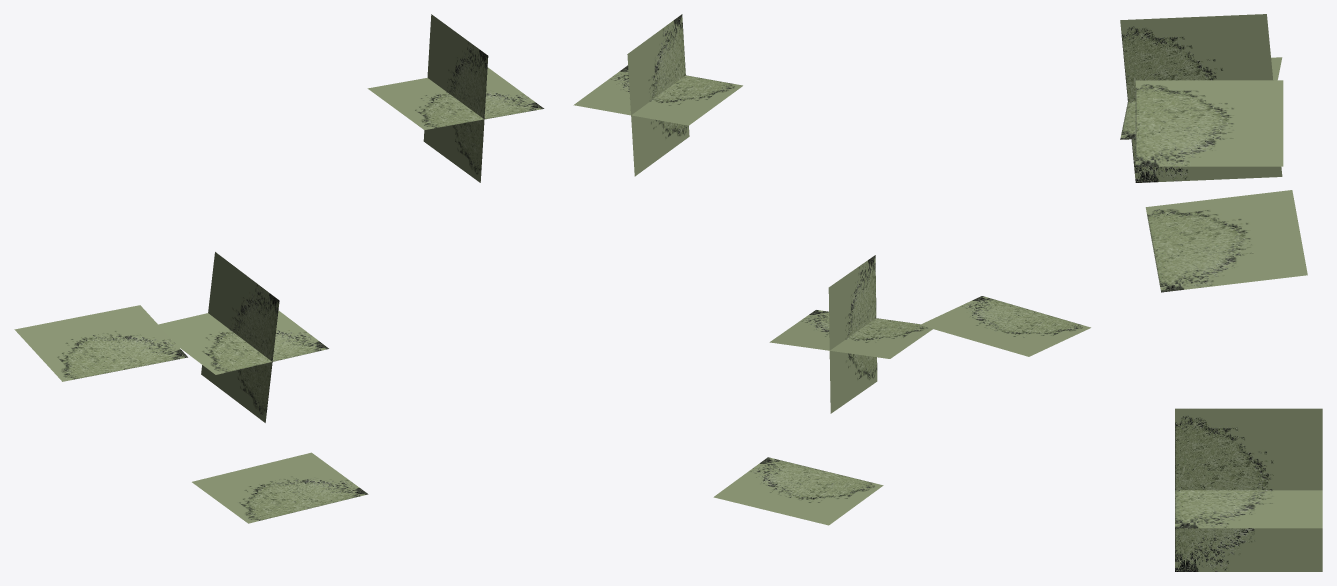
3 renders of one model, left to right at view 1: azimuth 30°, elevation 25°; view 2: azimuth 150°, elevation 25°; view 3: azimuth 270°, elevation 25°, orthographic. The views are drawn at different scales.
Visible parts, largest first — view 1: sageBrush.jpg__; view 2: sageBrush.jpg__; view 3: sageBrush.jpg__.
Boxes of the visible parts, box(x1,y1,x2,y2) form: sageBrush.jpg__: box(14, 14, 544, 523); sageBrush.jpg__: box(573, 14, 1090, 525); sageBrush.jpg__: box(1120, 14, 1322, 571).
Size of the model in its own units: 15.62 by 15.08 by 4.39.
Materials: 1 (1 with a texture image).
